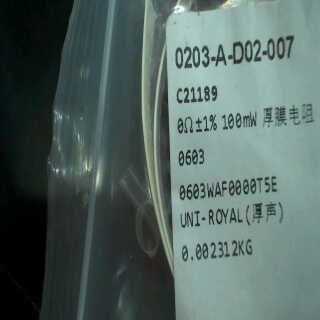0R: (172, 106, 261, 173)
